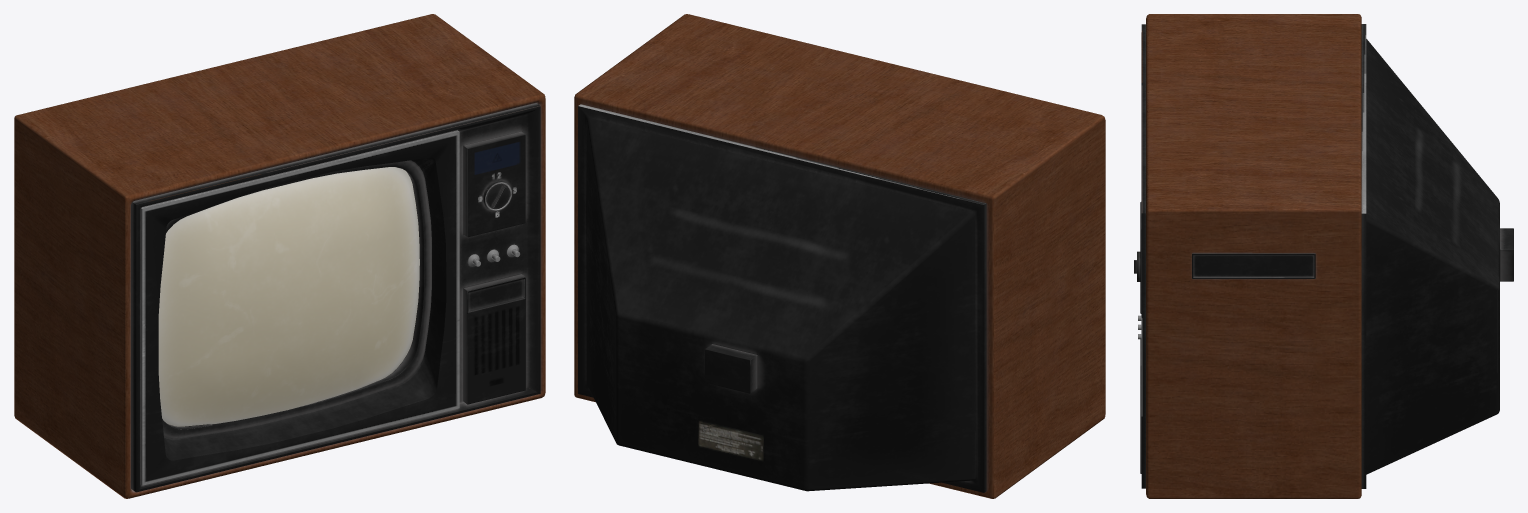
3 renders of one model, left to right at view 1: azimuth 30°, elevation 25°; view 2: azimuth 150°, elevation 25°; view 3: azimuth 270°, elevation 25°, orthographic. The views are drawn at different scales.
Visible parts, largest first — view 1: Cube_0; view 2: Cube_0; view 3: Cube_0.
Part boxes in pixels (<box>): Cube_0: <box>14,14,545,498</box>; Cube_0: <box>574,14,1105,498</box>; Cube_0: <box>1134,14,1513,498</box>.
Size of the model in its own units: 14.5 by 9.95 by 11.79.
Materials: 1 (1 with a texture image).
